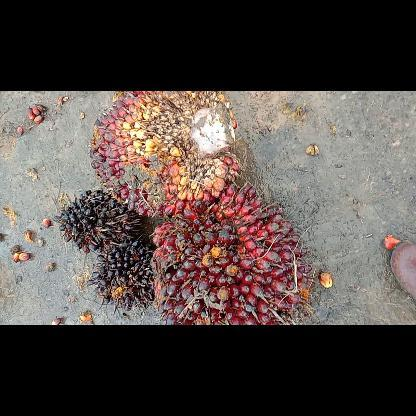TBS abnormal: (50, 188, 146, 252), (86, 237, 157, 316)
TBS masak: (148, 180, 314, 324), (87, 92, 245, 222)
